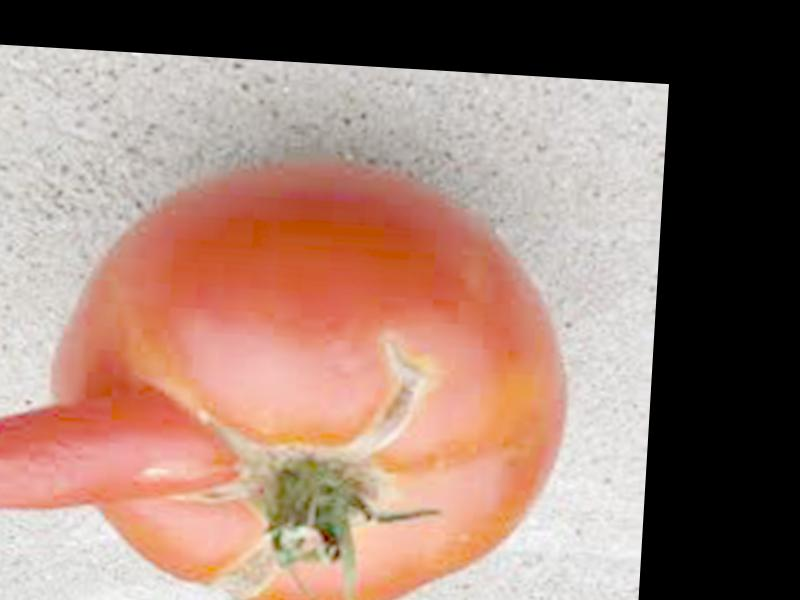Tomato: (37, 161, 584, 600)
